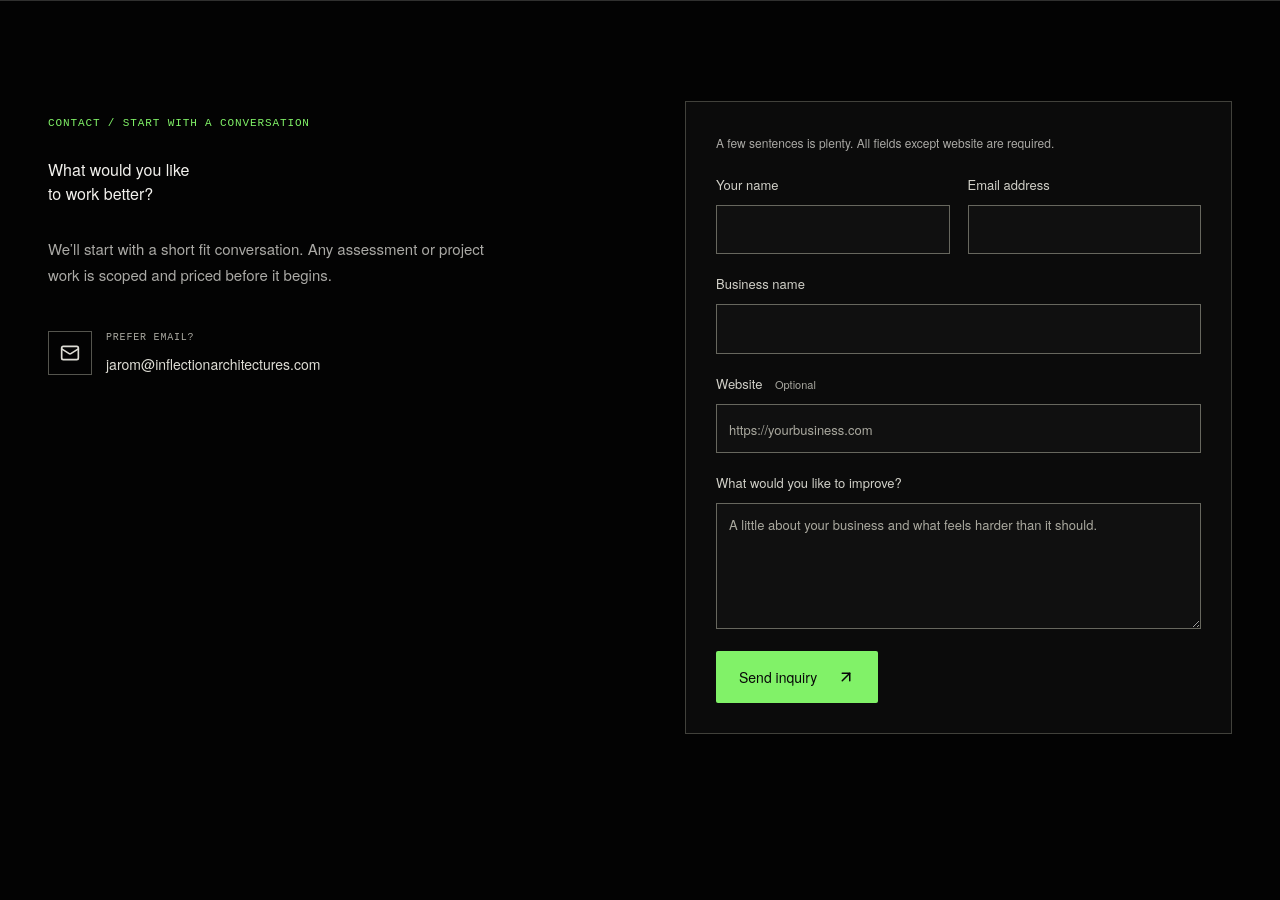
Test: business inquiry › validates fields without making a request and focuses the first error
Click the button "Send inquiry" at (797, 677), box [716, 651, 878, 703]
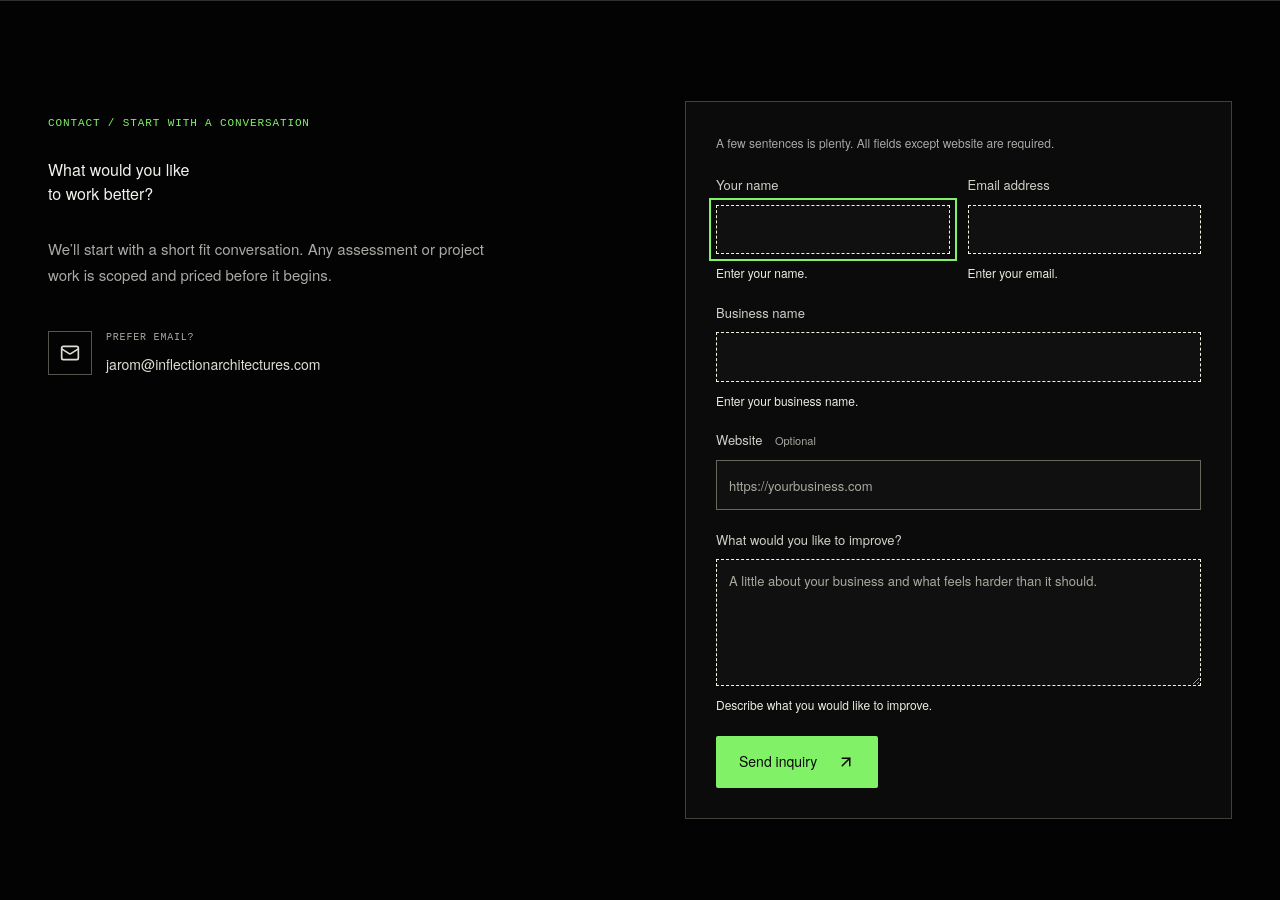
Result: the text "Describe what you would like to improve." is shown at [716, 696, 932, 713]
